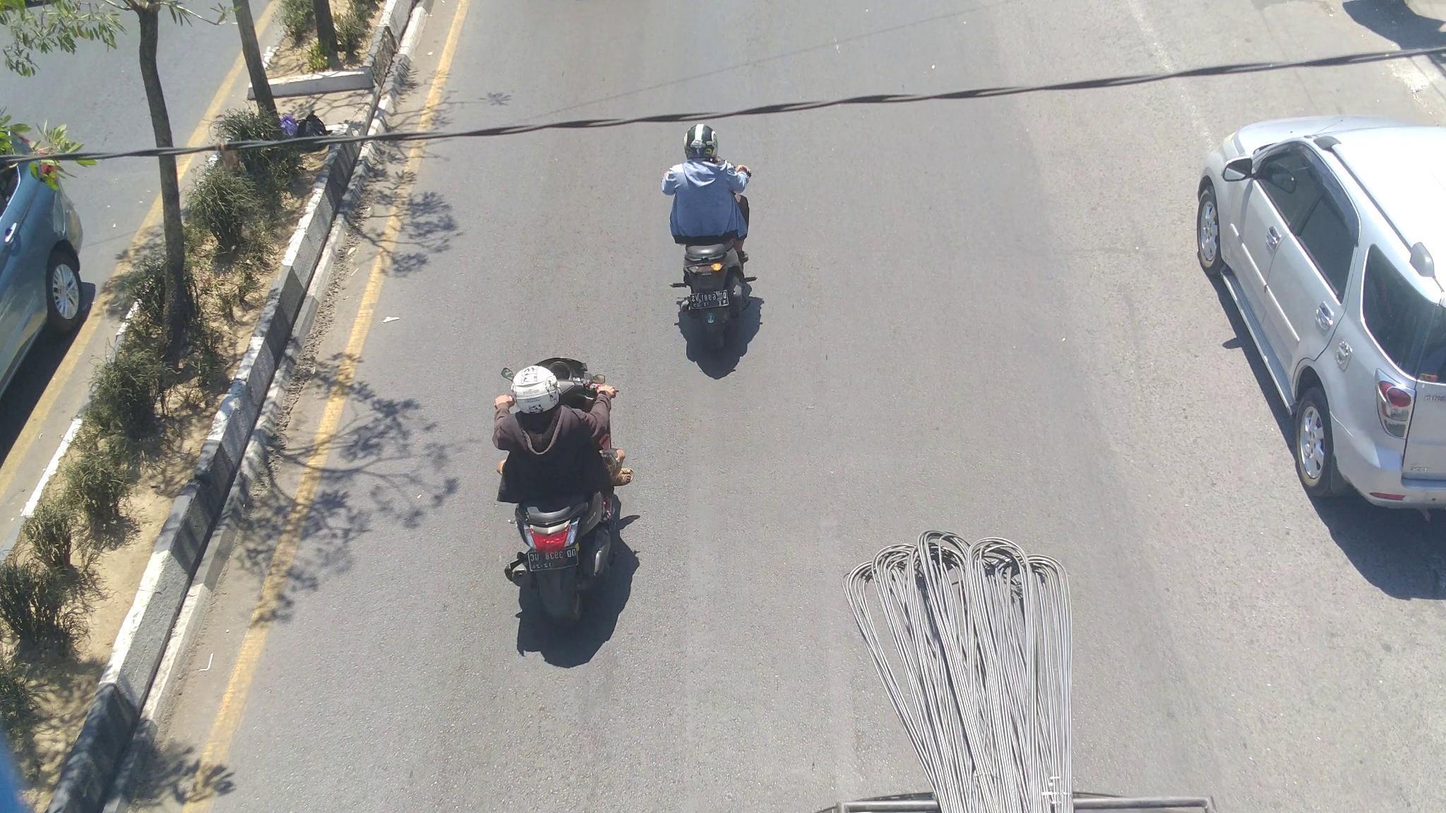Helmet: (505, 357, 567, 428), (676, 121, 723, 165)
bike: (487, 352, 634, 627), (660, 158, 761, 356)
number-plate: (523, 548, 583, 574)
rider: (492, 363, 635, 503), (661, 121, 756, 255)
